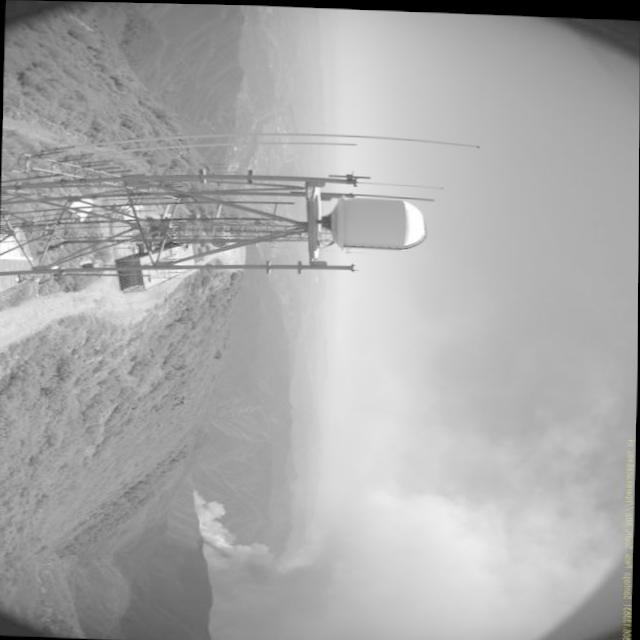smoke: (181, 487, 525, 640)
